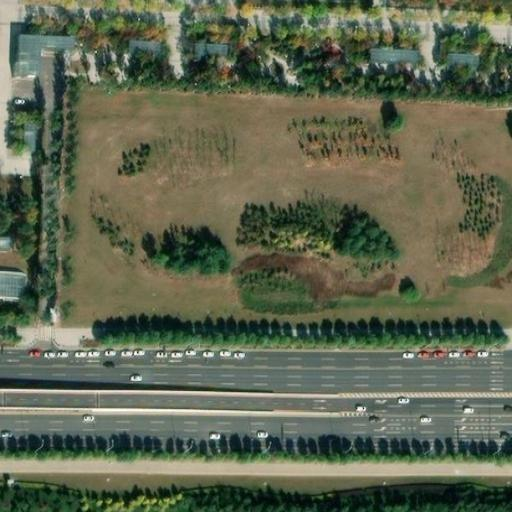building: (13, 30, 75, 74), (367, 45, 419, 62), (0, 270, 28, 301), (126, 34, 162, 54), (445, 48, 479, 65), (21, 119, 39, 151), (0, 232, 14, 249)
